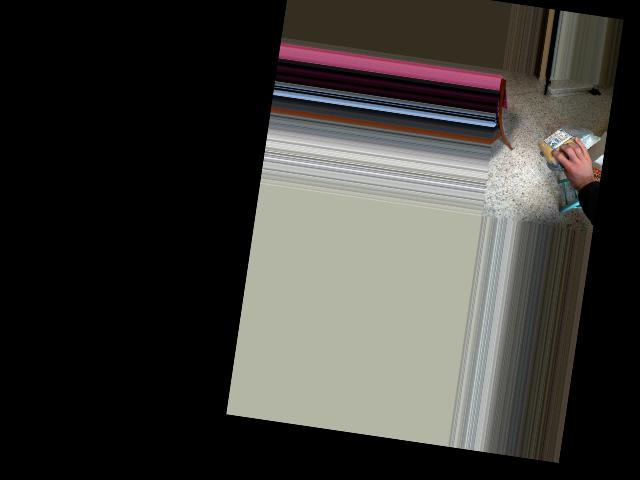cheese: (538, 124, 602, 166)
